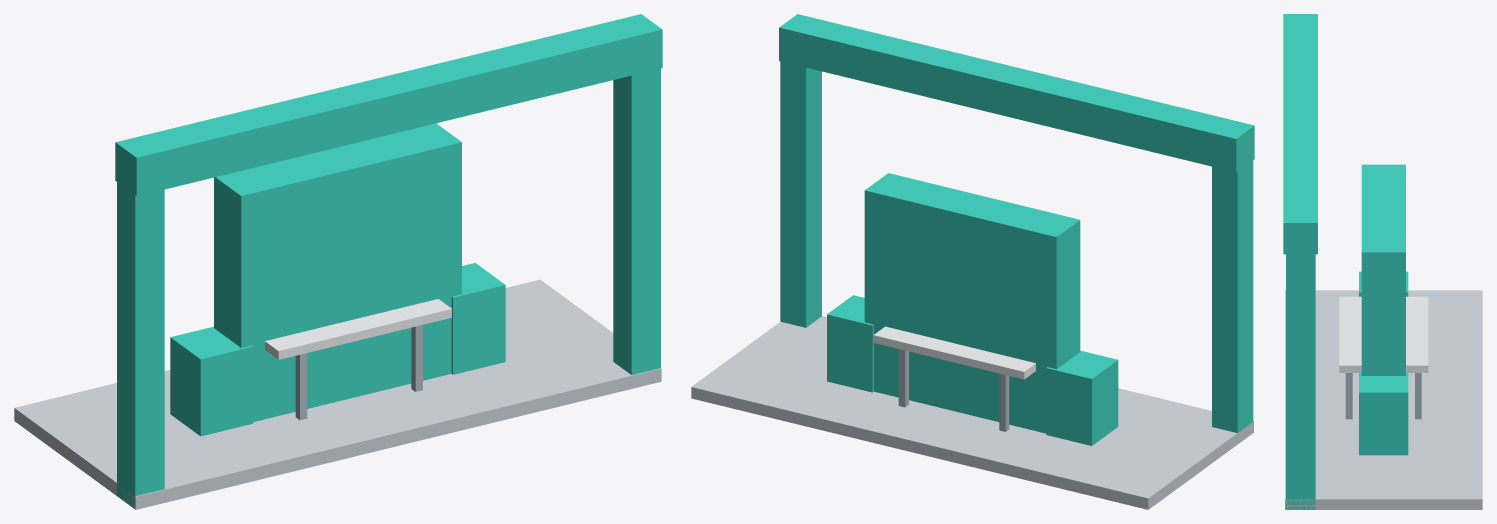
3 views of the same model, side by side, from view 1: azimuth 30°, elevation 25°; view 2: azimuth 150°, elevation 25°; view 3: azimuth 270°, elevation 25° (orthographic). The views are drawn at different scales.
Parts seen in each view (by area): view 1: Exhibition Booth Concept; view 2: Exhibition Booth Concept; view 3: Exhibition Booth Concept.
Part boxes in pixels (bbox=[...]): Exhibition Booth Concept: bbox=[14, 14, 662, 509]; Exhibition Booth Concept: bbox=[691, 14, 1254, 509]; Exhibition Booth Concept: bbox=[1283, 14, 1482, 509].
Size of the model in its own units: 5 by 3.2 by 2.01.
